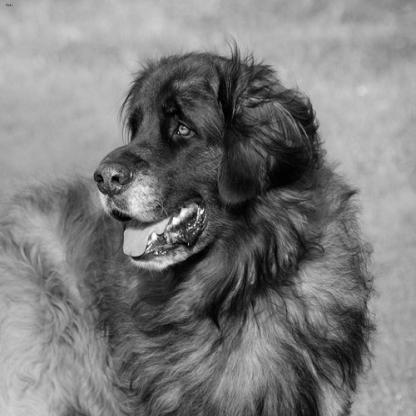Leonberger: (53, 17, 394, 415)
